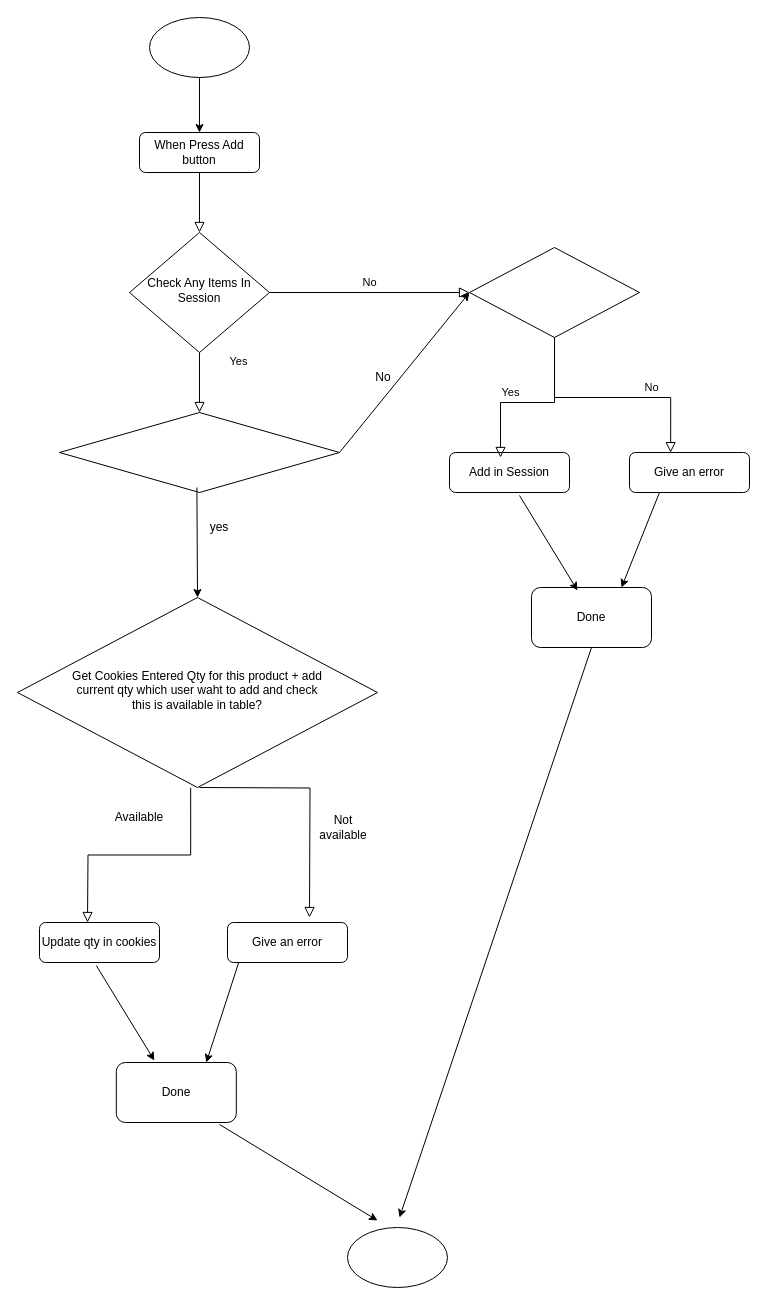
This 767x1305 diagram has some shape labels left out. Each missing label, with the centre of its shape:
"Check Entered Qty is available on table" belongs at point (554, 292).
"Check it is on cookies or not?" belongs at point (199, 452).
"End" belongs at point (397, 1257).
"Start" belongs at point (199, 47).
